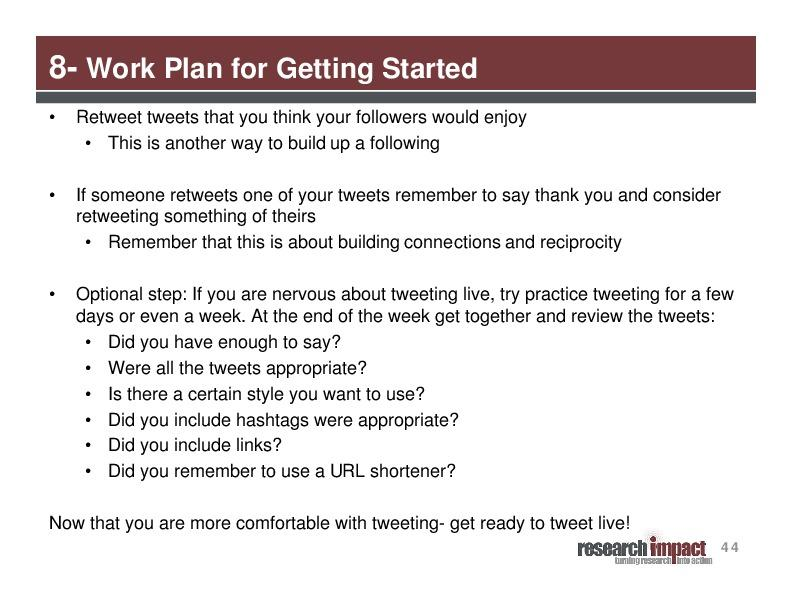paragraph: (38, 100, 776, 531)
subtitle: (574, 536, 747, 585)
title: (41, 43, 492, 87)
